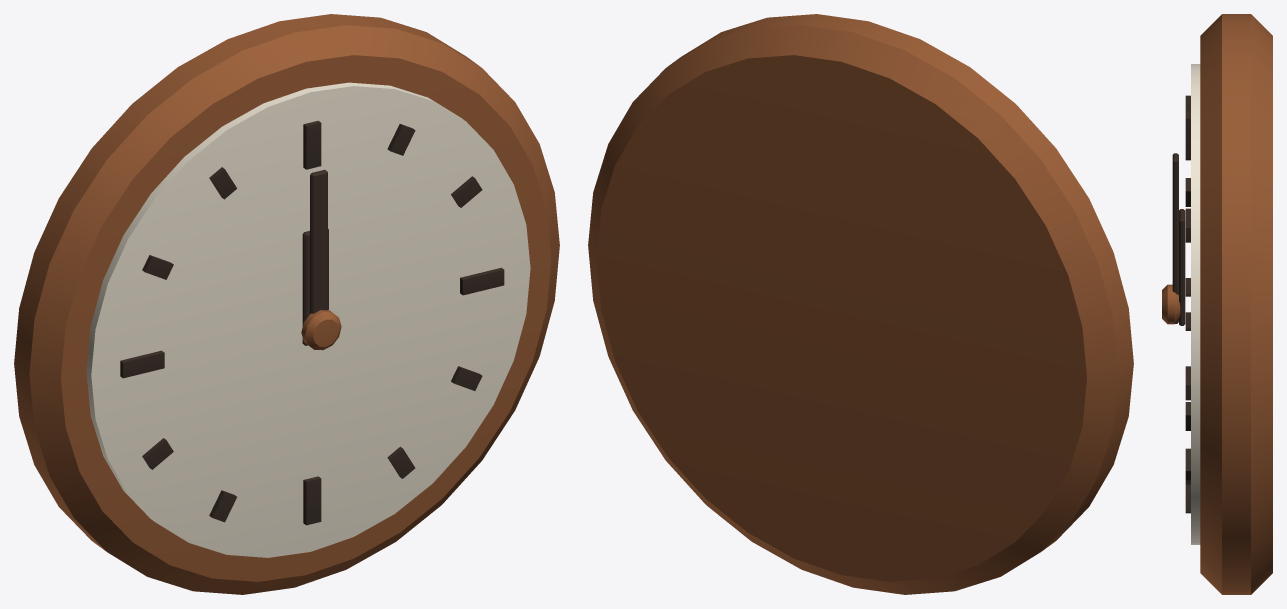
Rendered from relogio.glb.
3 renders of one model, left to right at view 1: azimuth 30°, elevation 25°; view 2: azimuth 150°, elevation 25°; view 3: azimuth 270°, elevation 25°, orthographic. The views are drawn at different scales.
Visible parts, largest first — view 1: relogio, minutos-malha, miolo, horas-malha; view 2: relogio; view 3: relogio, minutos-malha, horas-malha, miolo.
Boxes of the visible parts, x1,y1,x2,y2 form: relogio: (14, 14, 559, 594); minutos-malha: (310, 169, 327, 313); miolo: (301, 309, 341, 350); horas-malha: (302, 229, 328, 345); relogio: (588, 14, 1133, 594); relogio: (1185, 14, 1272, 594); minutos-malha: (1172, 153, 1178, 323); horas-malha: (1179, 209, 1185, 325); miolo: (1162, 284, 1180, 324).
Size of the model in its own units: 0.64 by 0.64 by 0.122.
